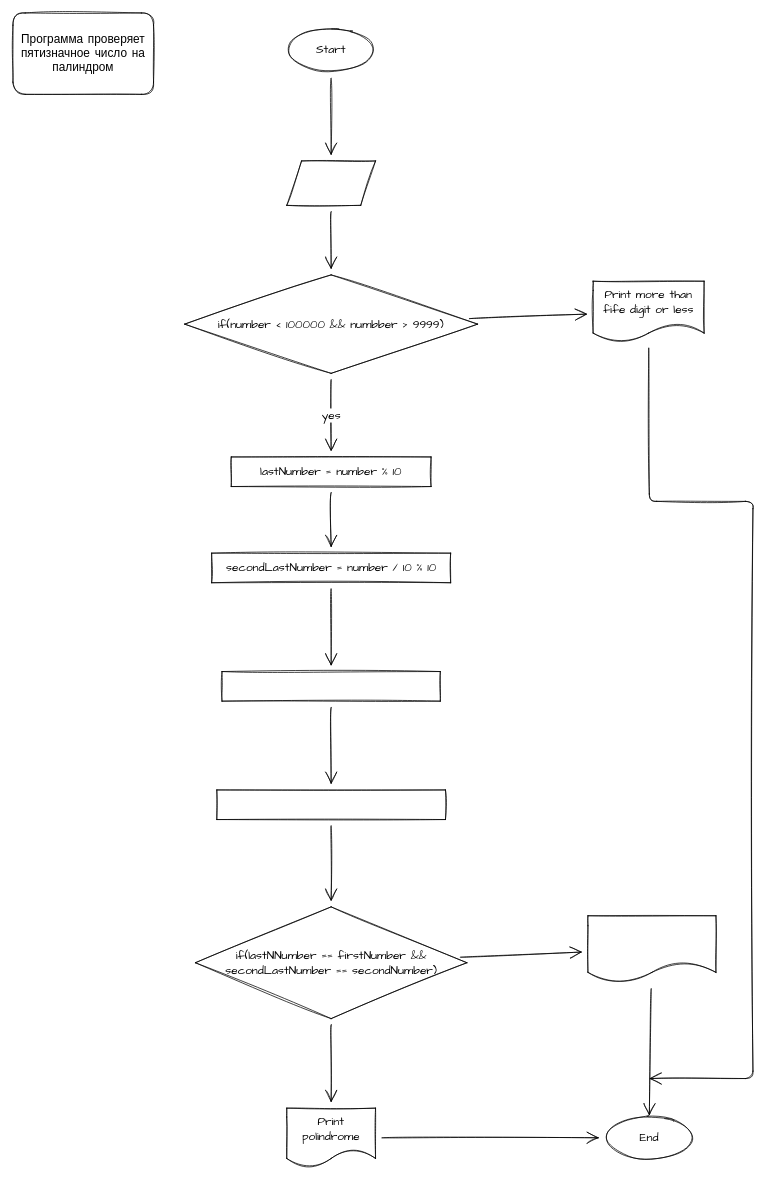
This 778x1180 diagram has some shape labels left out. The box of each missing label's shape, as (x1, y1, x2, y2) in pixels:
firstNumber = number / 10000 % 10: (221, 671, 440, 701)
number: (286, 160, 376, 205)
Print not polindrome: (587, 915, 716, 982)
secondNumber = number 1000 % 10: (216, 789, 445, 820)
